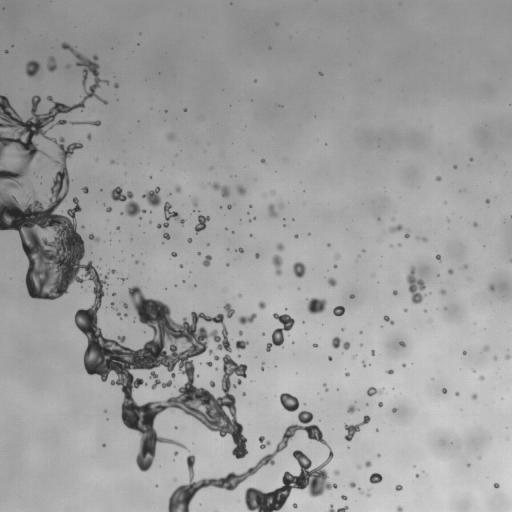droplet: (157, 202, 185, 228), (142, 187, 161, 207), (280, 393, 299, 411), (307, 297, 327, 314), (194, 214, 209, 232), (331, 336, 350, 349), (25, 60, 40, 76), (292, 262, 305, 278), (224, 303, 235, 318), (258, 436, 270, 449), (47, 56, 57, 71), (369, 473, 382, 483), (333, 306, 345, 316), (268, 204, 277, 217), (235, 340, 248, 349), (202, 254, 211, 266), (237, 185, 246, 195), (327, 277, 336, 286), (347, 405, 356, 413), (258, 301, 266, 309), (166, 133, 175, 140), (276, 243, 284, 250), (163, 232, 170, 239), (175, 185, 181, 193), (82, 186, 88, 193), (399, 341, 406, 347), (365, 461, 371, 467), (435, 254, 440, 261), (386, 369, 393, 374), (395, 485, 402, 490), (435, 176, 441, 181), (171, 252, 177, 257), (334, 253, 339, 259), (489, 284, 494, 290), (440, 289, 446, 294), (122, 302, 127, 308), (206, 361, 212, 366), (210, 381, 215, 387), (471, 394, 477, 399), (349, 482, 355, 487), (493, 483, 499, 488), (341, 495, 347, 500), (236, 248, 243, 252), (106, 207, 111, 212), (404, 233, 409, 238), (448, 269, 453, 274), (483, 346, 488, 351), (334, 470, 339, 475), (292, 503, 297, 508), (397, 506, 402, 511), (87, 133, 91, 139), (193, 200, 197, 206), (110, 269, 116, 273), (505, 355, 511, 359), (366, 491, 370, 497), (279, 203, 283, 208), (227, 204, 231, 209), (473, 222, 477, 227), (421, 237, 426, 241), (255, 253, 259, 258), (393, 290, 397, 295), (349, 294, 354, 298), (362, 361, 366, 366), (479, 376, 484, 380), (442, 388, 446, 393), (378, 402, 382, 407), (358, 488, 362, 493), (114, 83, 118, 87), (37, 158, 41, 162), (261, 159, 265, 163), (485, 199, 489, 203), (294, 234, 298, 238), (187, 238, 191, 242), (333, 264, 337, 268), (121, 277, 125, 281), (313, 343, 317, 347), (328, 356, 332, 360), (493, 356, 497, 360), (345, 372, 349, 376), (455, 392, 459, 396), (392, 408, 396, 412), (357, 465, 361, 469), (371, 350, 374, 355), (66, 64, 69, 68), (271, 191, 275, 194), (239, 331, 242, 335), (174, 451, 177, 455), (319, 72, 322, 75), (470, 158, 473, 161), (111, 160, 114, 163), (453, 165, 456, 168), (29, 183, 32, 186), (135, 260, 138, 263), (238, 294, 241, 297), (124, 313, 127, 316), (463, 351, 466, 354), (242, 392, 245, 395), (463, 265, 467, 267), (254, 79, 256, 82), (184, 108, 186, 111), (219, 206, 222, 208), (249, 234, 252, 236), (398, 243, 400, 246), (198, 252, 200, 255), (180, 264, 182, 267), (113, 292, 115, 295), (404, 308, 406, 311), (359, 331, 362, 333), (238, 354, 240, 357), (262, 362, 264, 365), (402, 364, 405, 366), (261, 367, 263, 370), (104, 410, 107, 412), (102, 444, 105, 446), (377, 454, 380, 456), (416, 474, 418, 477), (5, 50, 7, 52), (165, 110, 167, 112), (34, 172, 36, 174), (38, 175, 40, 177), (378, 218, 380, 220), (327, 244, 329, 246), (226, 263, 228, 265), (354, 355, 356, 357), (175, 426, 177, 428), (478, 457, 480, 459)
ligament: (0, 43, 247, 470), (168, 411, 337, 511), (111, 186, 146, 217), (266, 314, 294, 351), (406, 266, 425, 303), (344, 415, 370, 441), (209, 182, 229, 197), (272, 255, 282, 275), (238, 313, 256, 324), (366, 387, 383, 396), (71, 120, 100, 125), (111, 302, 120, 316), (328, 505, 348, 511), (389, 224, 402, 233), (89, 233, 99, 241), (384, 316, 393, 324), (323, 383, 328, 390), (510, 259, 511, 262)
